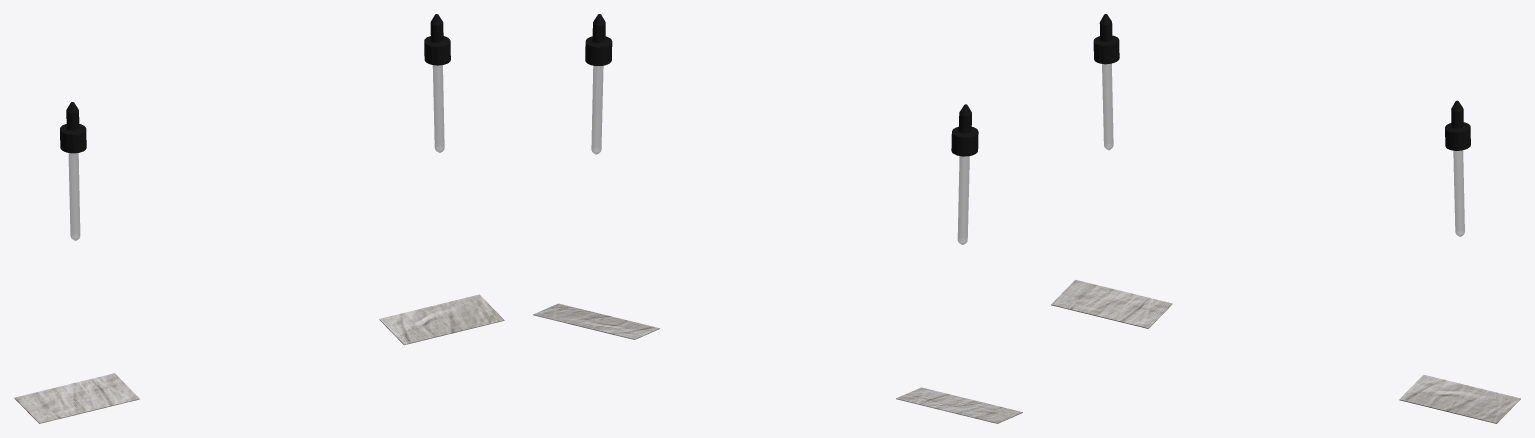
Rendered from dropper_paper.fbx.
The picture shows the model from 3 angles, left to right: view 1: azimuth 30°, elevation 25°; view 2: azimuth 150°, elevation 25°; view 3: azimuth 330°, elevation 25°; orthographic projection. The views are drawn at different scales.
Visible parts, largest first — view 1: polySurface1, polySurface2, dropper2, dropper; view 2: dropper2, dropper, polySurface2, polySurface1; view 3: polySurface2, polySurface1, dropper, dropper2.
Boxes of the visible parts, bbox=[...] form: polySurface1: bbox=[379, 294, 504, 345]; polySurface2: bbox=[14, 373, 139, 423]; dropper2: bbox=[424, 14, 450, 152]; dropper: bbox=[60, 102, 86, 240]; dropper2: bbox=[585, 14, 612, 154]; dropper: bbox=[951, 104, 978, 244]; polySurface2: bbox=[896, 387, 1022, 423]; polySurface1: bbox=[533, 303, 659, 339]; polySurface2: bbox=[1051, 279, 1172, 328]; polySurface1: bbox=[1399, 374, 1520, 423]; dropper: bbox=[1093, 14, 1119, 150]; dropper2: bbox=[1445, 100, 1470, 236].
Size of the model in its own units: 21.81 by 13.95 by 2.28.
3 materials, 2 textured.
